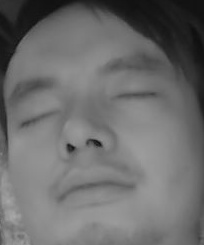blink: (109, 86, 156, 107), (22, 106, 61, 128)
mouth: (52, 160, 136, 206)
